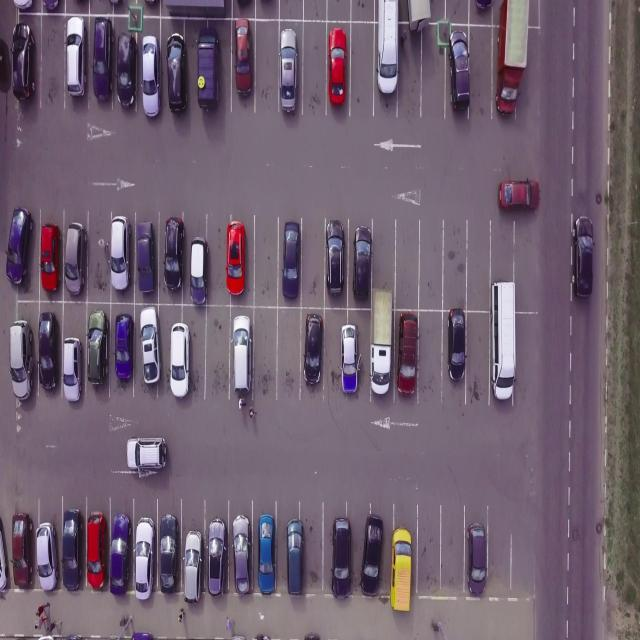Bus: (494, 0, 530, 116), (490, 282, 516, 399), (370, 290, 392, 396), (377, 0, 399, 96)
Car: (168, 314, 192, 402), (5, 208, 32, 286), (9, 320, 33, 400), (360, 514, 383, 596), (11, 23, 35, 99), (134, 517, 156, 599), (198, 27, 220, 109), (448, 30, 470, 111), (572, 216, 594, 295), (397, 314, 418, 396), (278, 28, 298, 112), (166, 32, 187, 112), (92, 17, 112, 101), (331, 516, 351, 600), (11, 513, 33, 588), (86, 310, 108, 384), (110, 514, 130, 595), (66, 17, 86, 98), (61, 509, 81, 590), (141, 36, 161, 116), (140, 307, 161, 383), (38, 313, 58, 392), (232, 515, 252, 594), (64, 222, 85, 296), (36, 521, 58, 591), (116, 32, 136, 109), (233, 315, 252, 396), (110, 216, 130, 292), (303, 312, 323, 388), (86, 512, 106, 588), (325, 219, 344, 297), (184, 531, 204, 605), (164, 216, 184, 290), (127, 437, 167, 474), (351, 227, 371, 300), (446, 309, 466, 382), (258, 514, 276, 595), (281, 222, 300, 298), (340, 322, 360, 394), (286, 516, 304, 595), (225, 222, 244, 296), (208, 518, 226, 596), (160, 514, 178, 592), (328, 29, 346, 107), (136, 222, 155, 294), (498, 178, 540, 210), (40, 223, 60, 290), (235, 19, 252, 97), (115, 315, 134, 382), (62, 338, 82, 401), (190, 238, 208, 305), (0, 514, 9, 589), (64, 633, 84, 640), (253, 634, 270, 640)
Van: (390, 526, 411, 612), (467, 522, 488, 596)
